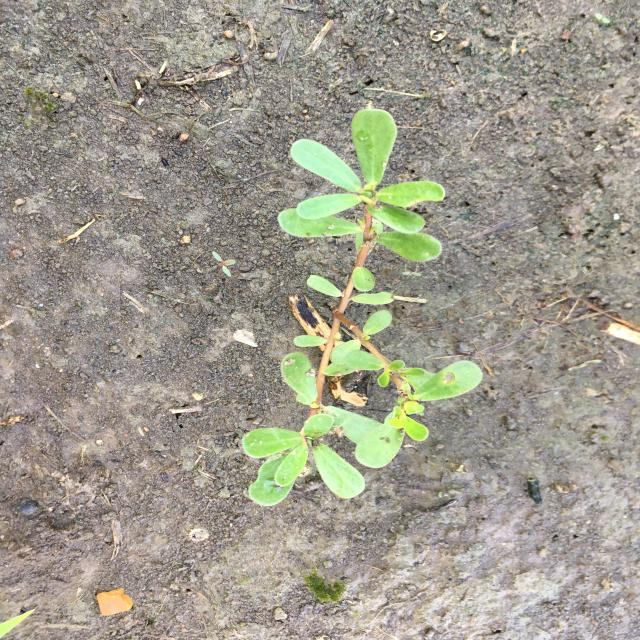Purslane: (239, 106, 485, 508)
